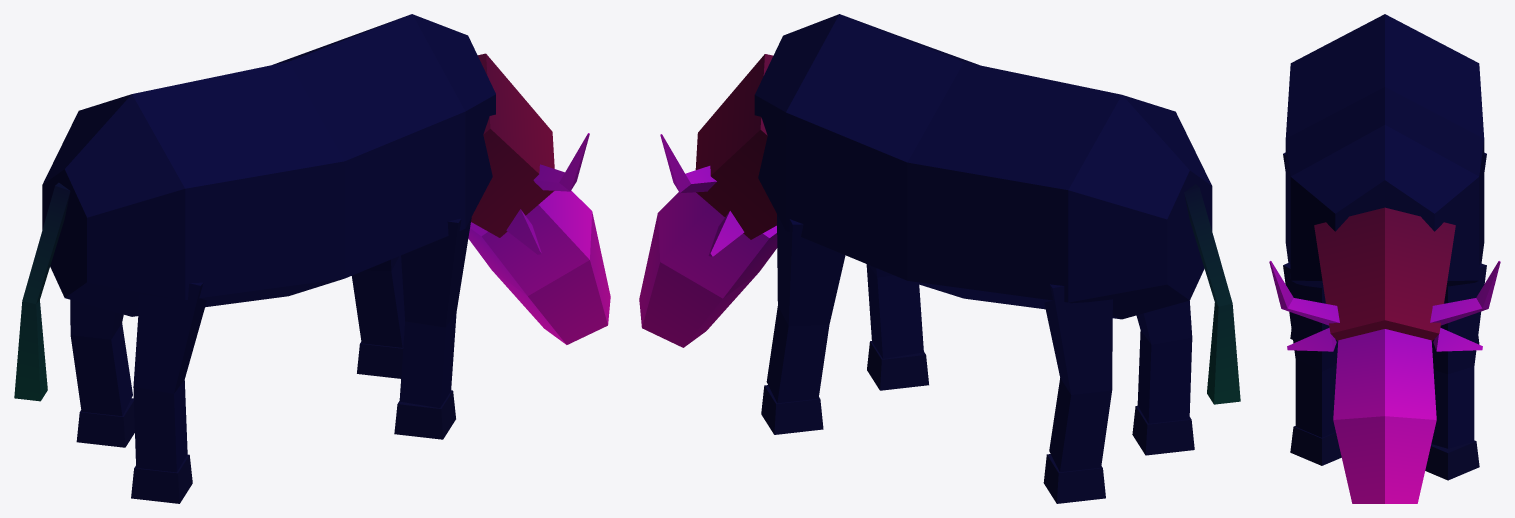
Rendered from ns-cattle-b.glb.
The picture shows the model from 3 angles, left to right: view 1: azimuth 30°, elevation 25°; view 2: azimuth 150°, elevation 25°; view 3: azimuth 270°, elevation 25°; orthographic projection. The views are drawn at different scales.
Visible parts, largest first — view 1: Sculpted silhouette, Sculpted silhouette.001, Tapered form.009, Tapered form.006, Tapered form.002, Tapered form.008, Tapered form.004, Tapered form.014, Tapered form, Tapered form.003, Tapered form.007, Tapered form.005 (+3 smaller); view 2: Sculpted silhouette, Sculpted silhouette.001, Tapered form.009, Tapered form.004, Tapered form, Tapered form.008, Tapered form.006, Tapered form.014, Tapered form.002, Tapered form.003, Tapered form.001, Tapered form.005 (+3 smaller); view 3: Sculpted silhouette.001, Tapered form.009, Tapered form.008, Sculpted silhouette, Tapered form, Tapered form.002, Tapered form.001, Tapered form.010, Tapered form.012, Tapered form.003, Tapered form.011, Tapered form.013.
Part boxes in pixels (x1=…): Sculpted silhouette: x1=42, y1=61, x2=344, y2=316; Sculpted silhouette.001: x1=273, y1=14, x2=495, y2=278; Tapered form.009: x1=468, y1=190, x2=610, y2=344; Tapered form.006: x1=133, y1=282, x2=206, y2=472; Tapered form.002: x1=399, y1=217, x2=471, y2=407; Tapered form.008: x1=471, y1=53, x2=554, y2=237; Tapered form.004: x1=70, y1=300, x2=132, y2=416; Tapered form.014: x1=14, y1=182, x2=70, y2=401; Tapered form: x1=352, y1=255, x2=404, y2=347; Tapered form.003: x1=394, y1=390, x2=455, y2=439; Tapered form.007: x1=131, y1=454, x2=192, y2=503; Tapered form.005: x1=76, y1=398, x2=134, y2=447; Sculpted silhouette: x1=907, y1=62, x2=1212, y2=319; Sculpted silhouette.001: x1=754, y1=14, x2=979, y2=280; Tapered form.009: x1=639, y1=192, x2=777, y2=347; Tapered form.004: x1=1044, y1=284, x2=1112, y2=472; Tapered form: x1=766, y1=214, x2=845, y2=403; Tapered form.008: x1=695, y1=54, x2=776, y2=239; Tapered form.006: x1=1136, y1=300, x2=1192, y2=423; Tapered form.014: x1=1184, y1=184, x2=1240, y2=404; Tapered form.002: x1=866, y1=264, x2=923, y2=358; Tapered form.003: x1=867, y1=341, x2=928, y2=390; Tapered form.001: x1=761, y1=385, x2=823, y2=434; Tapered form.005: x1=1043, y1=454, x2=1105, y2=503; Sculpted silhouette.001: x1=1285, y1=87, x2=1484, y2=290; Tapered form.009: x1=1333, y1=329, x2=1436, y2=503; Tapered form.008: x1=1314, y1=207, x2=1455, y2=341; Sculpted silhouette: x1=1285, y1=14, x2=1484, y2=138; Tapered form: x1=1431, y1=263, x2=1486, y2=448; Tapered form.002: x1=1283, y1=262, x2=1337, y2=437; Tapered form.001: x1=1425, y1=440, x2=1479, y2=480; Tapered form.010: x1=1269, y1=261, x2=1339, y2=325; Tapered form.012: x1=1430, y1=261, x2=1500, y2=325; Tapered form.003: x1=1290, y1=426, x2=1341, y2=465; Tapered form.011: x1=1287, y1=327, x2=1336, y2=351; Tapered form.013: x1=1433, y1=327, x2=1482, y2=351.
Bounding box in the file's own units: 1 × 0.611 × 0.3796.
